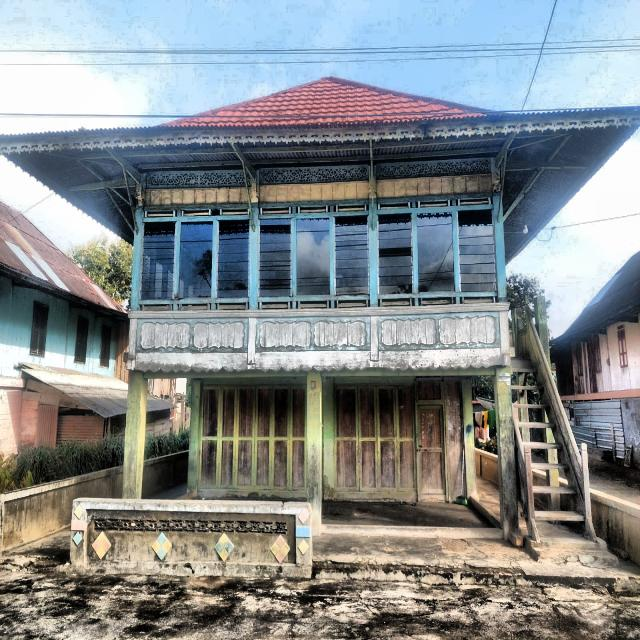column: (493, 367, 519, 541), (122, 370, 148, 499), (307, 368, 322, 536), (461, 377, 478, 502), (187, 379, 202, 497), (323, 377, 334, 501)
ornamen: (378, 312, 501, 352), (256, 316, 372, 353), (135, 318, 249, 353)
roof: (0, 76, 638, 265), (0, 201, 127, 316), (548, 251, 640, 346), (16, 365, 128, 418), (147, 392, 178, 412)
stair: (510, 295, 598, 543)
wall: (377, 157, 501, 370), (255, 164, 372, 372), (136, 169, 250, 373), (334, 377, 467, 504), (198, 376, 307, 500), (0, 274, 118, 377), (554, 313, 640, 396)
window: (456, 209, 497, 291), (416, 212, 455, 292), (377, 213, 414, 295), (140, 221, 176, 299), (334, 216, 369, 295), (178, 221, 213, 299), (258, 218, 292, 297), (216, 220, 250, 298), (296, 218, 330, 295), (29, 300, 49, 358), (74, 315, 89, 365), (100, 325, 112, 369), (617, 328, 628, 368)
